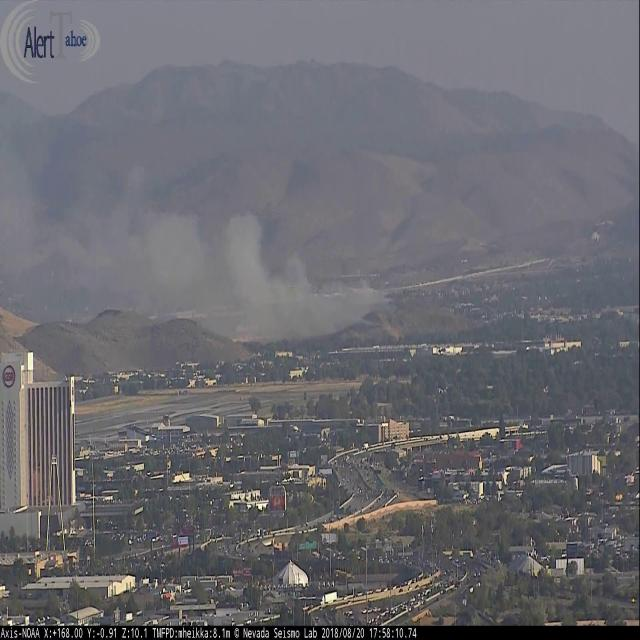smoke: (86, 156, 409, 354)
